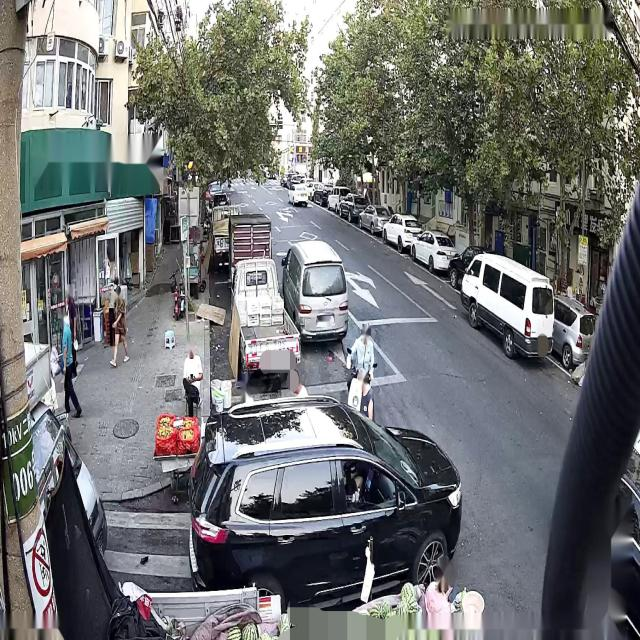car: (231, 254, 301, 382)
fixed_stall: (206, 576, 486, 640), (152, 412, 204, 501)
